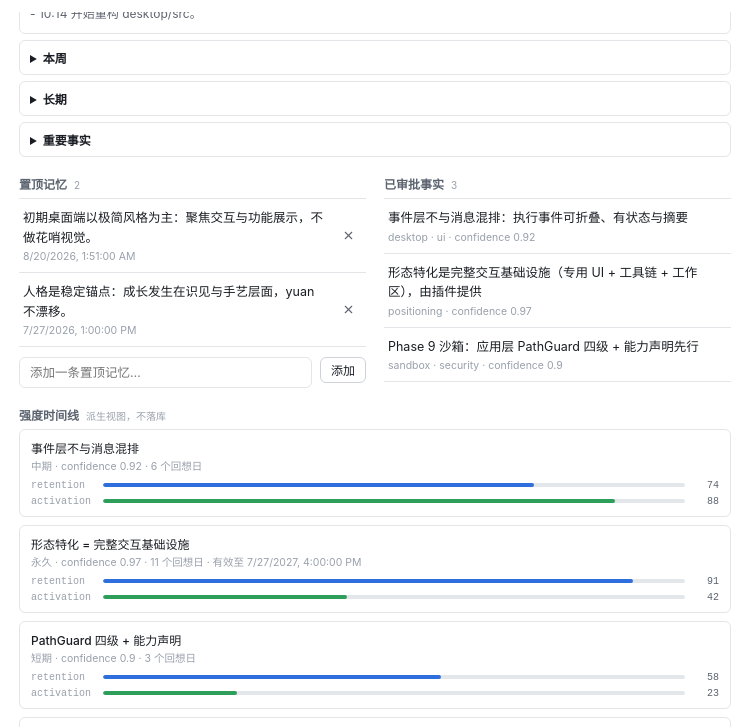
Test case: MEM-03: 置顶记忆即时新增与删除
The image size is (748, 727).
(page scrolled)
expect the number of buttons named "删除置顶" is 2: met, box [334,223,362,249]; [334,296,362,322]
Step 1. Type "测试置顶记忆条目" into the field with placeholder "添加一条置顶记忆…" → [166, 372], box [19,357,312,388]
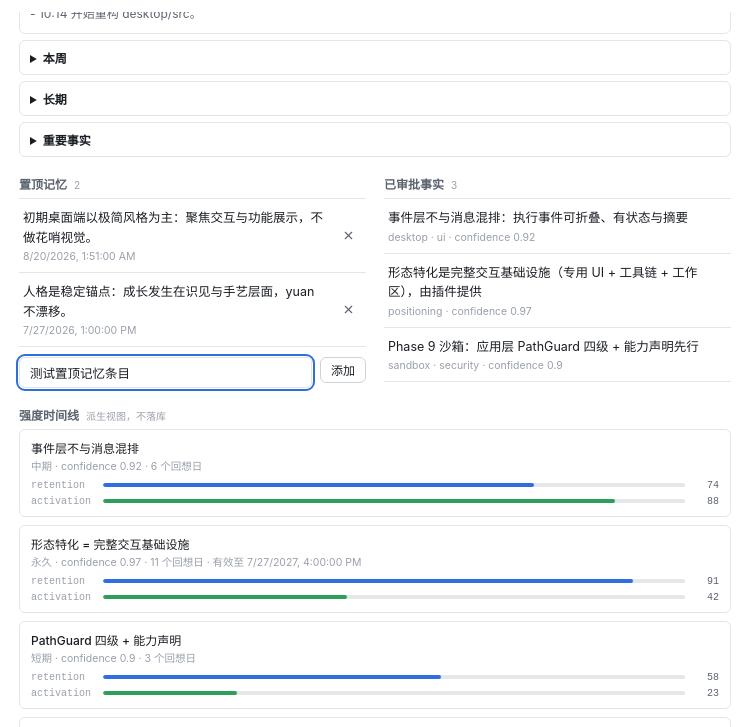
Step 2. Click the button "添加" → [343, 370], box [320,357,366,383]
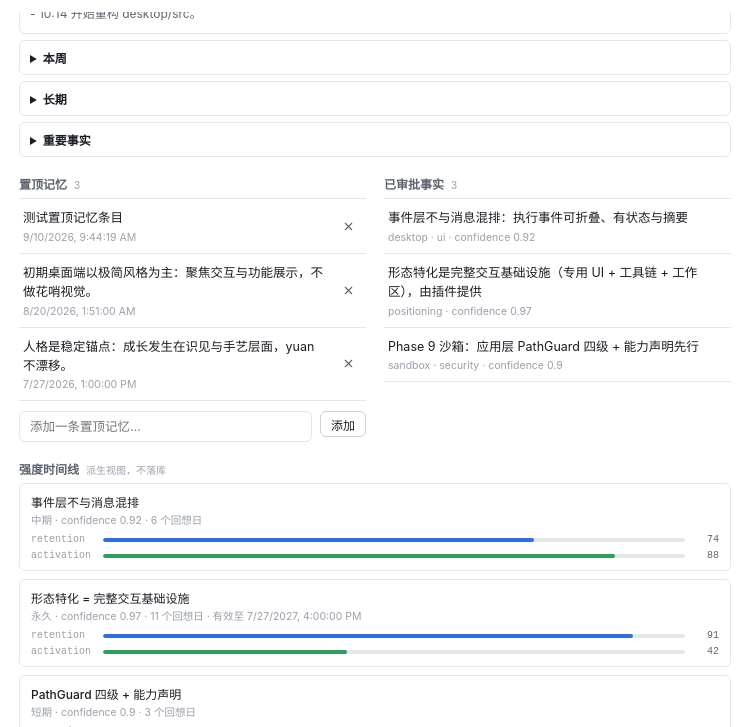
expect the number of buttons named "删除置顶" is 3: met
expect the text "测试置顶记忆条目" is shown: met, box [23,210,123,225]
Step 3. Click the button named "删除置顶" in the row of "9/10/2026, 9:44:19 AM" → [348, 226], box [334,213,362,239]
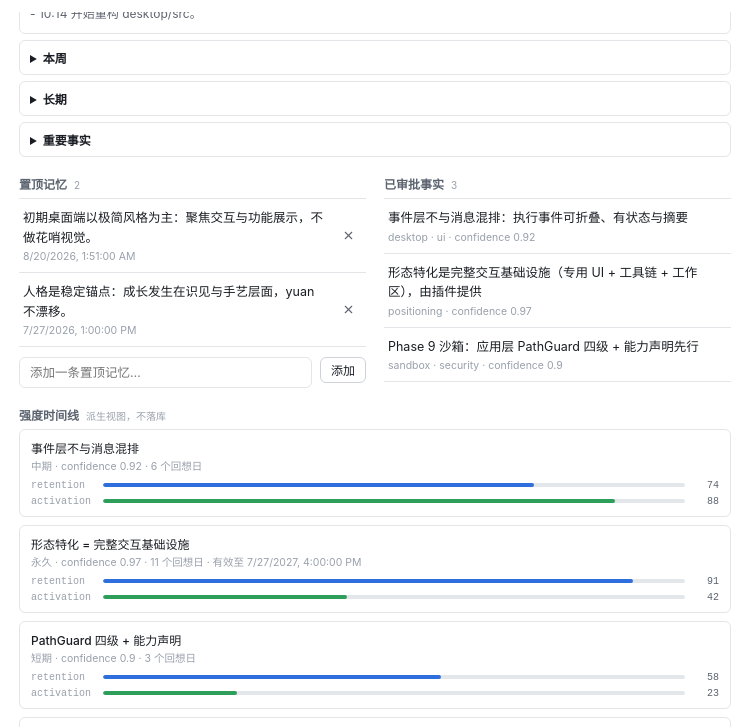
expect the number of buttons named "删除置顶" is 2: met, box [334,223,362,249]; [334,296,362,322]
expect the text "测试置顶记忆条目" is gone: met
